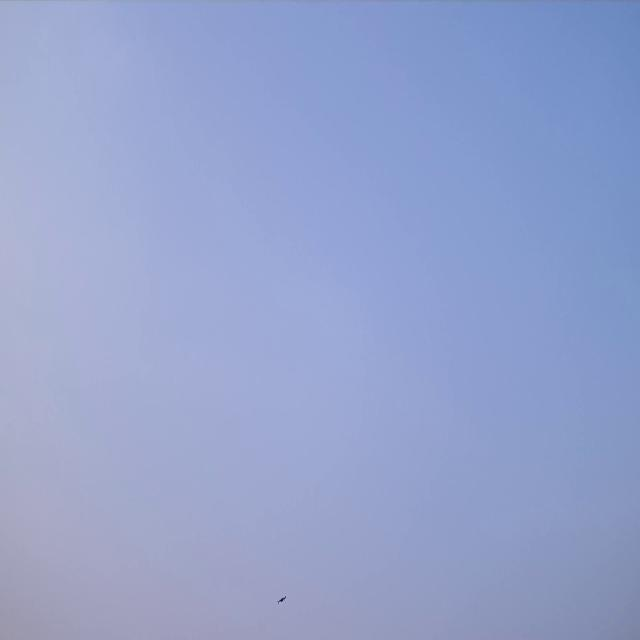UAV: (278, 596, 285, 603)
